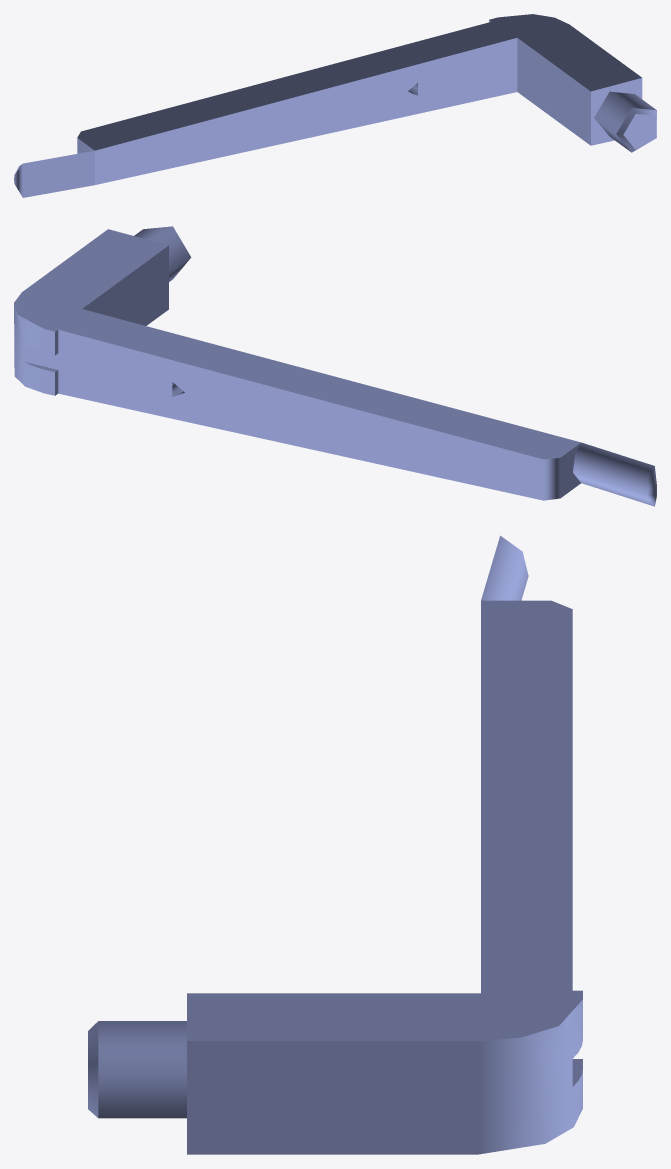
File: Copie de L^Copie de Assemb_Guide_cremaillere_Copie de ASS pilier 4_Horloge Comtoise Verge - Sonnerie.obj
The picture shows the model from 3 angles, top to bottom: view 1: azimuth 30°, elevation 25°; view 2: azimuth 150°, elevation 25°; view 3: azimuth 270°, elevation 25°; orthographic projection. The views are drawn at different scales.
Parts seen in each view (by area): view 1: Face_9, Face_11, Face_8, Face_20, Face_19, Face_7, Face_25, Face_22; view 2: Face_4, Face_11, Face_8, Face_10, Face_5, Face_19, Face_3, Face_2; view 3: Face_11, Face_6, Face_5, Face_19, Face_10, Face_22.
Boxes of the visible parts, x1,y1,x2,y2 form: Face_9: [95, 38, 517, 184]; Face_11: [77, 14, 641, 150]; Face_8: [517, 38, 590, 145]; Face_20: [23, 150, 94, 197]; Face_19: [594, 91, 656, 152]; Face_7: [591, 78, 642, 145]; Face_25: [623, 114, 655, 149]; Face_22: [616, 108, 656, 152]; Face_4: [24, 329, 543, 500]; Face_11: [14, 229, 580, 459]; Face_8: [82, 245, 168, 325]; Face_10: [573, 442, 653, 506]; Face_5: [14, 303, 44, 393]; Face_19: [134, 226, 191, 281]; Face_3: [543, 458, 560, 500]; Face_2: [560, 443, 580, 498]; Face_11: [187, 600, 582, 1040]; Face_6: [187, 1041, 478, 1154]; Face_5: [478, 999, 582, 1154]; Face_19: [98, 1021, 186, 1118]; Face_10: [481, 536, 528, 600]; Face_22: [88, 1021, 98, 1117].
Bounding box in the file's own units: 0.0605 × 0.006 × 0.0237.
